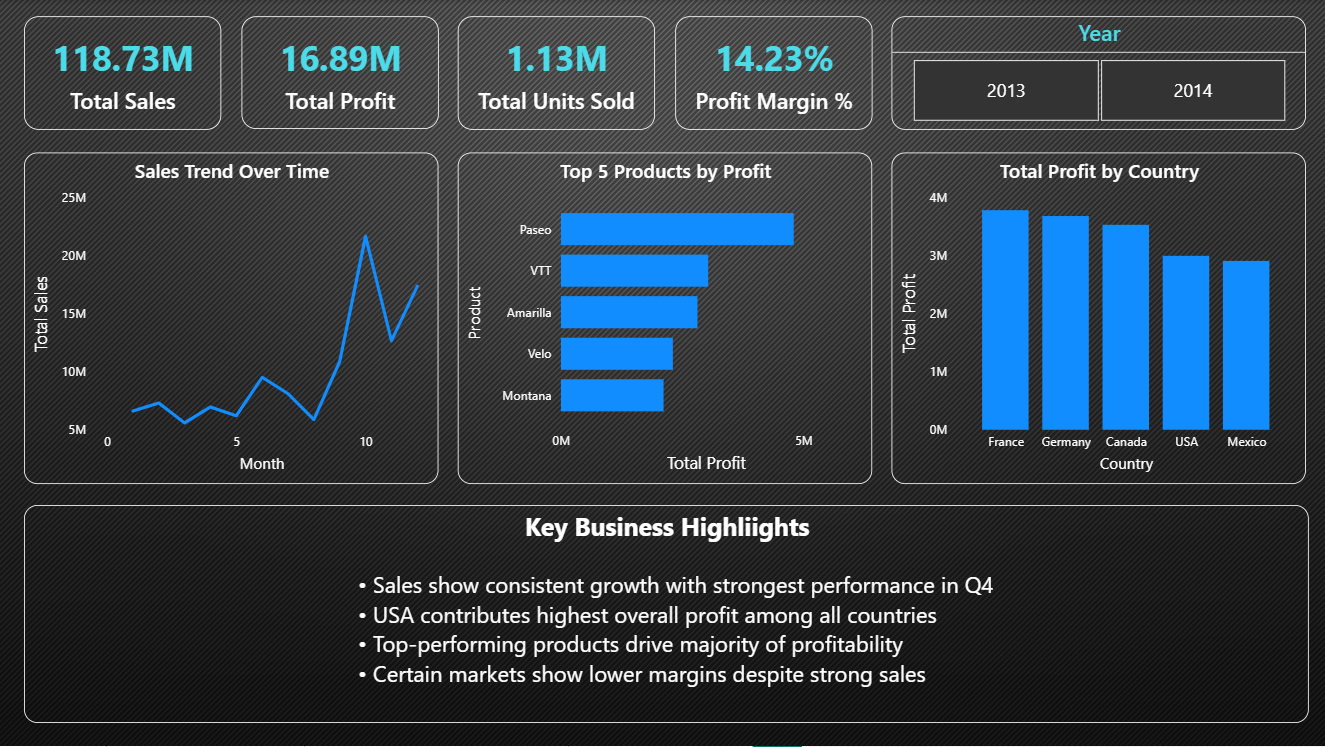

The page's visual inventory and layout, read from the dashboard file:
{"tool":"powerbi","page":{"name":"Executive Summary","canvas":[1280,720],"ordinal":3},"visuals":[{"type":"card","fields":{"Values":["Measures_.Total Sales"]},"box":[24,16,190.3,109.3],"z":0,"group":"g2"},{"type":"lineChart","title":"Sales Trend Over Time","fields":{"Category":["Financials.Month"],"Y":["Measures_.Total Sales"]},"box":[24,146.7,400,320],"z":0,"group":"g1"},{"type":"columnChart","fields":{"Category":["Financials.Country"],"Y":["Measures_.Total Profit"]},"box":[861.3,146.7,400,320],"z":0},{"type":"card","fields":{"Values":["Measures_.Total Profit"]},"box":[233.4,16,190.3,109],"z":1000,"group":"g2"},{"type":"group","id":"g1","title":"Group 2","box":[24,146.7,818.7,320],"z":1000},{"type":"barChart","title":"Top 5 Products by Profit","fields":{"Category":["Financials.Product"],"Y":["Measures_.Total Profit"]},"box":[442.7,146.7,400,320],"z":1000,"group":"g1"},{"type":"group","id":"g2","title":"Group 1","box":[24,16,818.7,109.3],"z":2000},{"type":"card","fields":{"Values":["Measures_.Total Units Sold"]},"box":[442.9,16,190.3,109.3],"z":2000,"group":"g2"},{"type":"card","fields":{"Values":["Measures_.Profit Margin %"]},"box":[652.3,16,190.3,109.3],"z":3000,"group":"g2"},{"type":"shape","title":"Key Business Highliights","box":[24,488,1240,210.7],"z":3000},{"type":"textbox","box":[340.9,544.3,633.4,125.9],"z":3001},{"type":"slicer","title":"Year","fields":{"Values":["Financials.Year"]},"box":[861.3,16,400,109.3],"z":3002}]}

Visuals, with their boxes in screenshot pixels (x1, y1, x2, y2), scaled from the page's 1280x720 canvas onto the 1325x747 screenshot:
card - Measures_.Total Sales: {"x1": 25, "y1": 17, "x2": 222, "y2": 130}
"Sales Trend Over Time" lineChart: {"x1": 25, "y1": 152, "x2": 439, "y2": 484}
columnChart - Financials.Country x Measures_.Total Profit: {"x1": 892, "y1": 152, "x2": 1306, "y2": 484}
card - Measures_.Total Profit: {"x1": 242, "y1": 17, "x2": 439, "y2": 130}
"Group 2" group: {"x1": 25, "y1": 152, "x2": 872, "y2": 484}
"Top 5 Products by Profit" barChart: {"x1": 458, "y1": 152, "x2": 872, "y2": 484}
"Group 1" group: {"x1": 25, "y1": 17, "x2": 872, "y2": 130}
card - Measures_.Total Units Sold: {"x1": 458, "y1": 17, "x2": 655, "y2": 130}
card - Measures_.Profit Margin %: {"x1": 675, "y1": 17, "x2": 872, "y2": 130}
"Key Business Highliights" shape: {"x1": 25, "y1": 506, "x2": 1308, "y2": 725}
textbox: {"x1": 353, "y1": 565, "x2": 1009, "y2": 695}
"Year" slicer: {"x1": 892, "y1": 17, "x2": 1306, "y2": 130}
